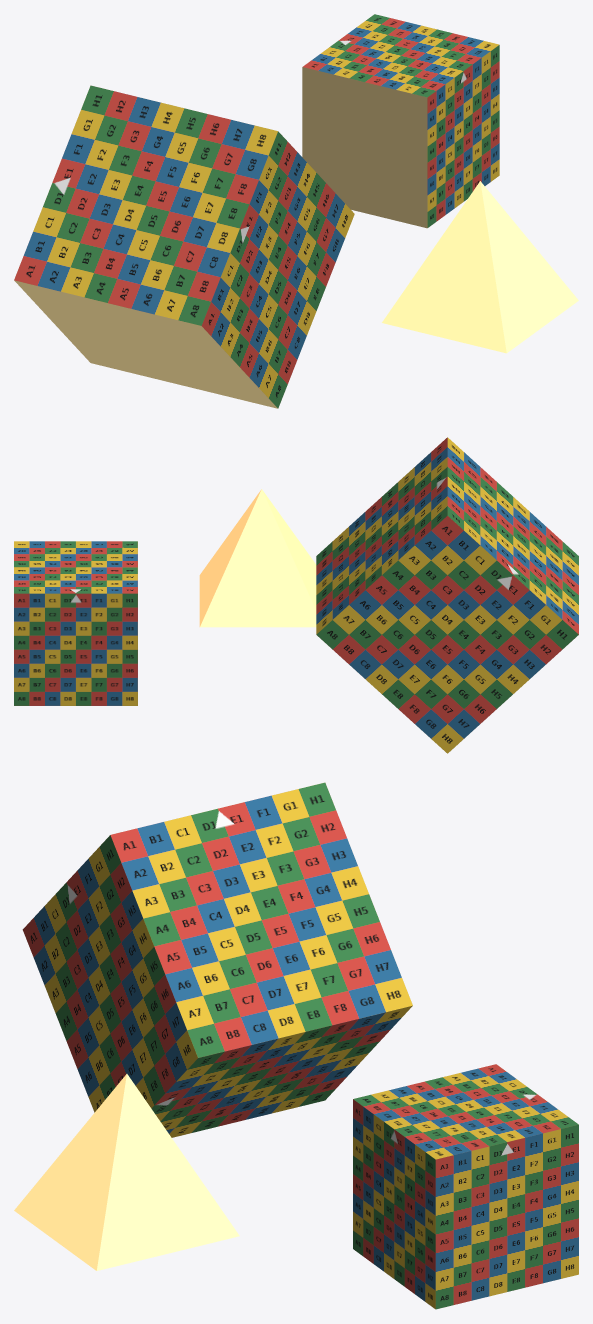
The model's file is cubes.glb.
The picture shows the model from 3 angles, top to bottom: view 1: azimuth 30°, elevation 25°; view 2: azimuth 150°, elevation 25°; view 3: azimuth 270°, elevation 25°; orthographic projection. The views are drawn at different scales.
Parts seen in each view (by area): view 1: cube_left, cube_right, pyramid; view 2: cube_left, cube_right, pyramid; view 3: cube_left, cube_right, pyramid.
Part boxes in pixels (left/top/right/bottom): cube_left: left=14, top=85, right=354, bottom=408; cube_right: left=302, top=14, right=499, bottom=228; pyramid: left=382, top=181, right=578, bottom=353; cube_left: left=316, top=437, right=578, bottom=753; cube_right: left=14, top=541, right=137, bottom=705; pyramid: left=199, top=489, right=316, bottom=627; cube_left: left=22, top=782, right=412, bottom=1137; cube_right: left=353, top=1064, right=578, bottom=1309; pyramid: left=14, top=1074, right=239, bottom=1270.
Size of the model in its own units: 4.57 by 2.12 by 3.42.
3 materials, 1 textured.
